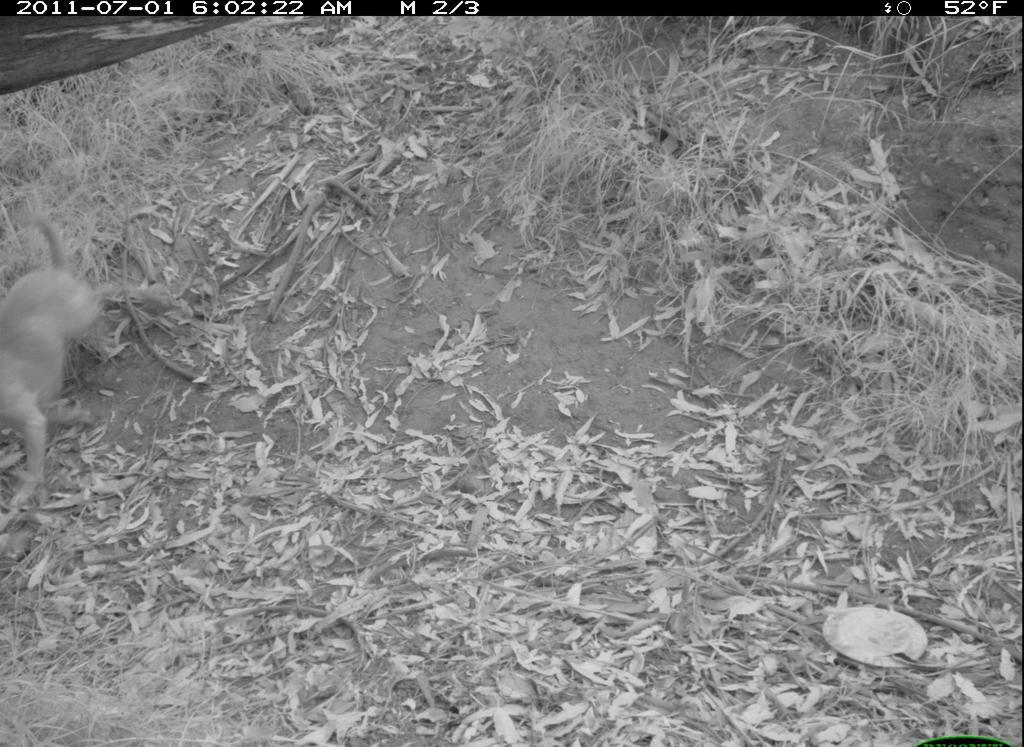dog: (3, 214, 131, 513)
